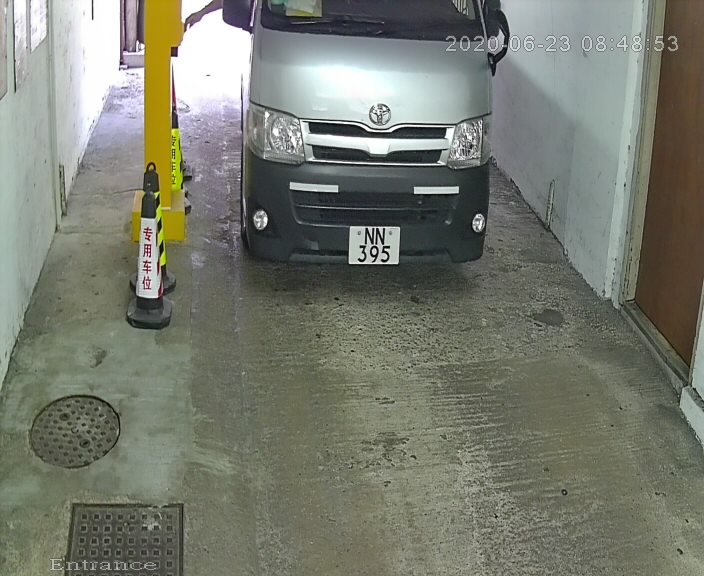van_s: (205, 1, 523, 312)
